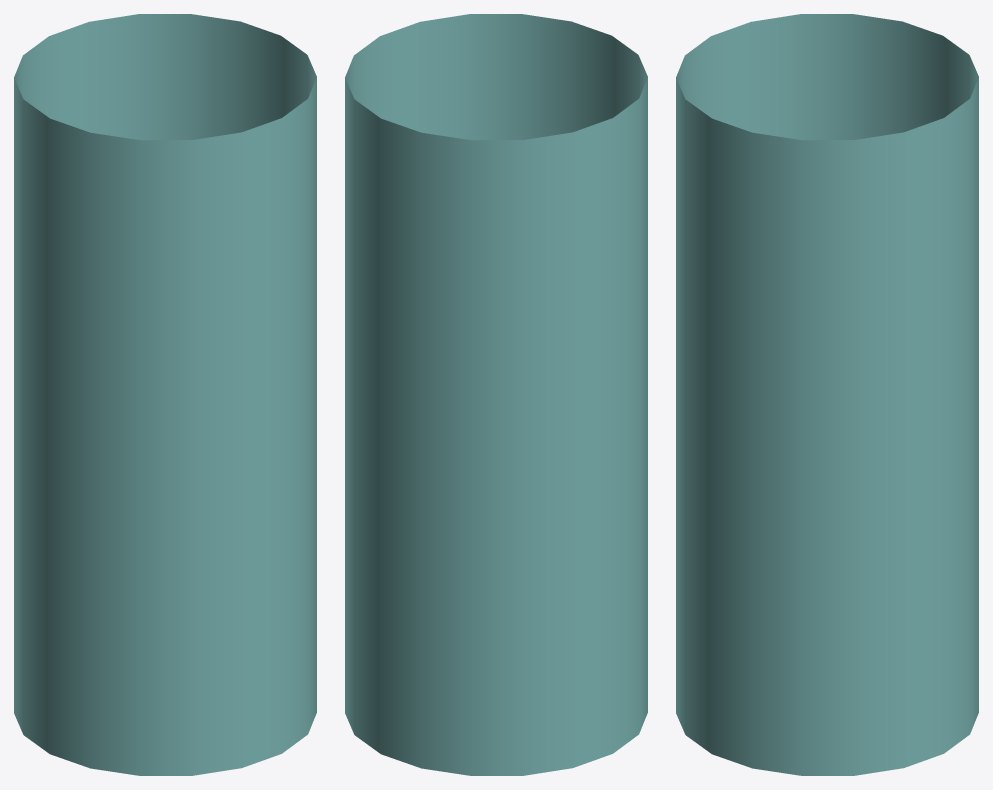
Rendered from Tube_msh_blue.fbx.
3 views of the same model, side by side, from view 1: azimuth 30°, elevation 25°; view 2: azimuth 150°, elevation 25°; view 3: azimuth 270°, elevation 25° (orthographic).
Visible parts, largest first — view 1: Tube_msh; view 2: Tube_msh; view 3: Tube_msh.
Part boxes in pixels (left/top/right/bottom): Tube_msh: left=14, top=14, right=316, bottom=775; Tube_msh: left=345, top=14, right=647, bottom=775; Tube_msh: left=676, top=14, right=978, bottom=775.
Bounding box in the file's own units: 85.46 × 201 × 86.7.
